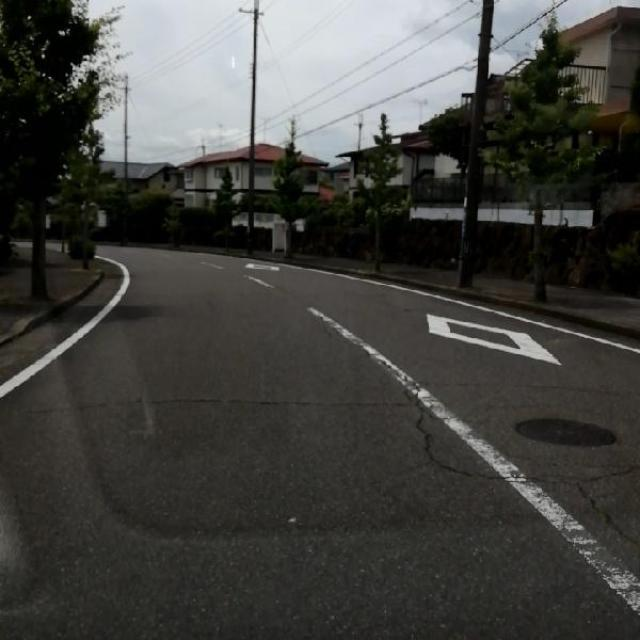Crack: (350, 345, 546, 525), (15, 366, 334, 413), (575, 456, 640, 543)
